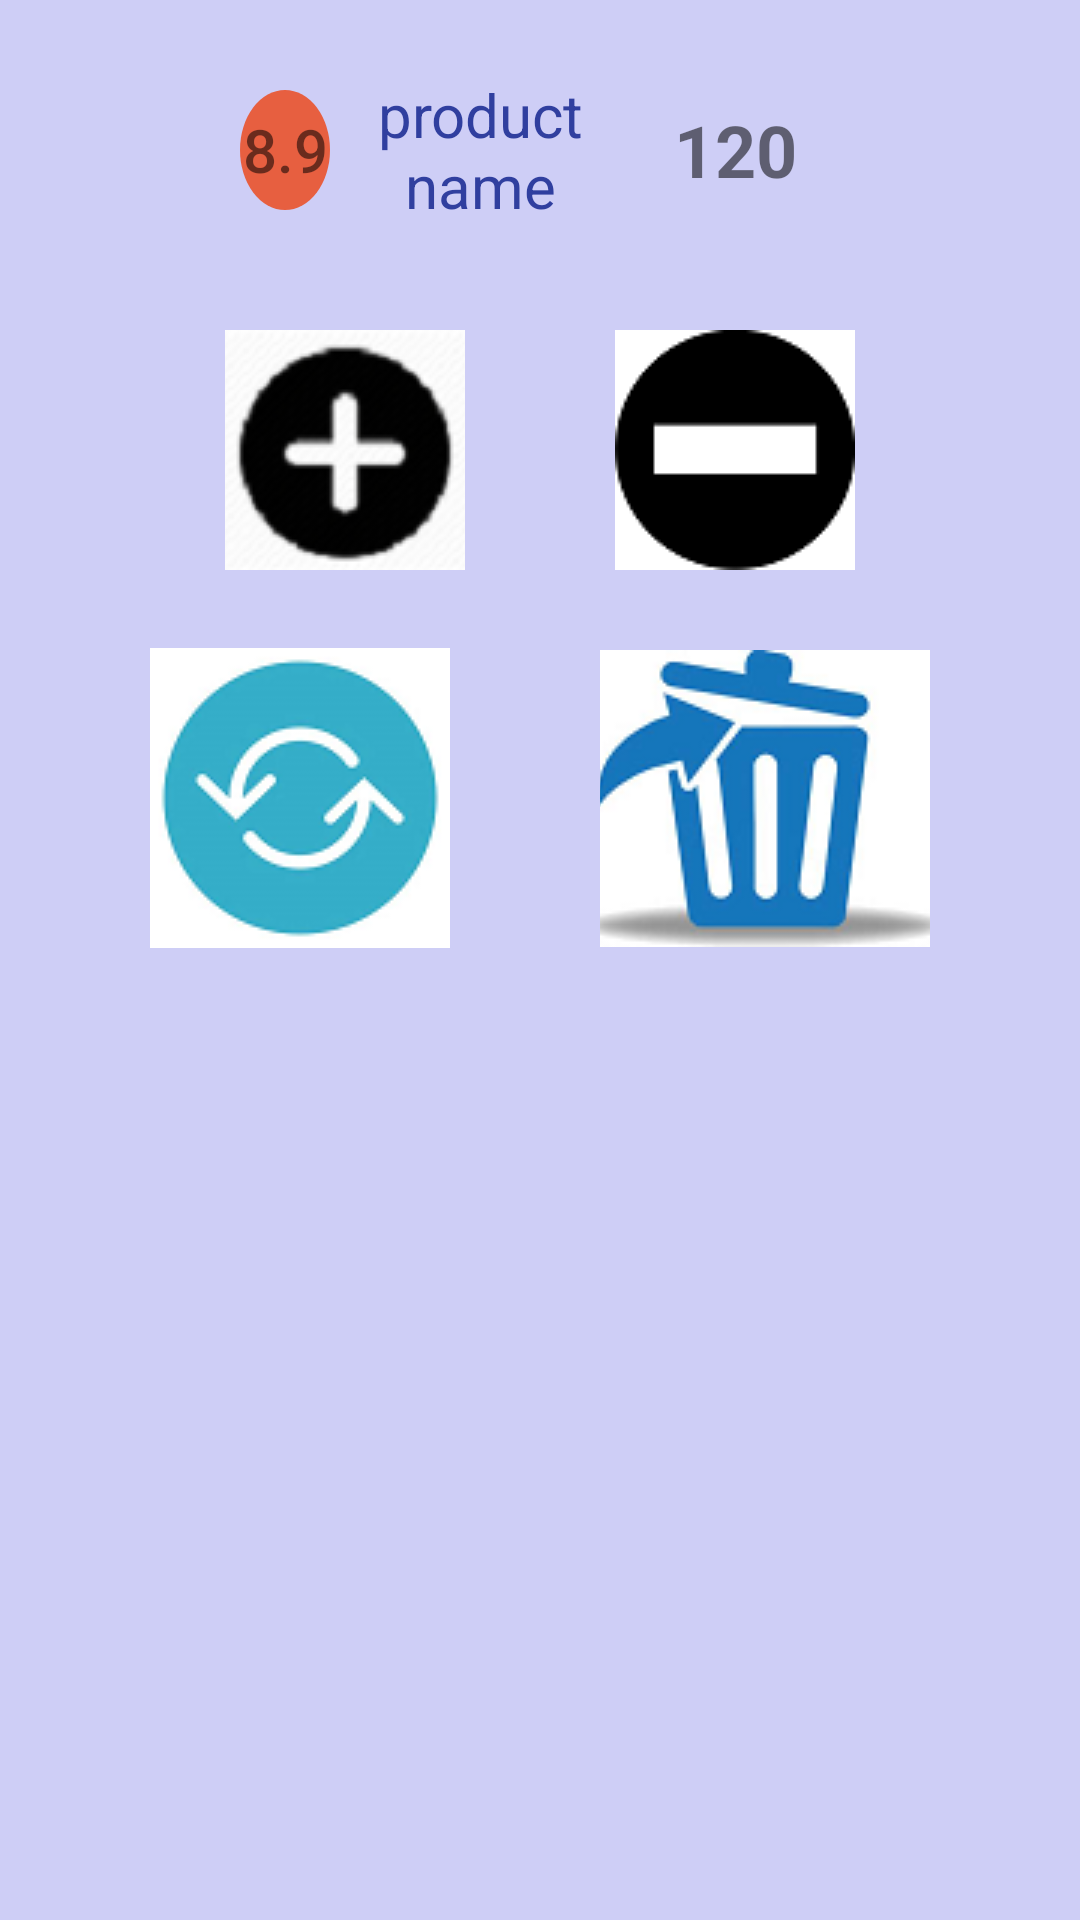

Where icons sit on this 1080px×1920px app screen, as (x1, y1, x2, y2):
decrease: (615, 330, 855, 570)
delete: (600, 650, 930, 947)
increase: (225, 330, 465, 570)
update: (150, 648, 450, 948)
